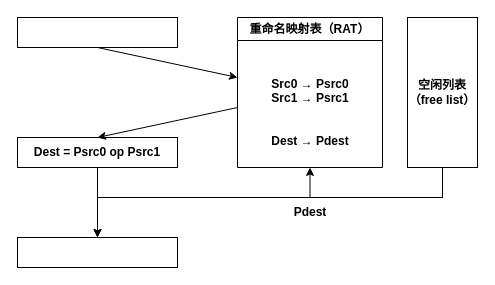
The diagram is 495 pixels wide and 285 high, and some of its shapes have lost their labels. The shapes that lost their labels are listed below. From the top down, each one's centre as x and y in pixels, then its label:
the point at 97,32: Dest = Src0 op Src1
the point at 97,252: Pdest = Psrc0 op Psrc1
